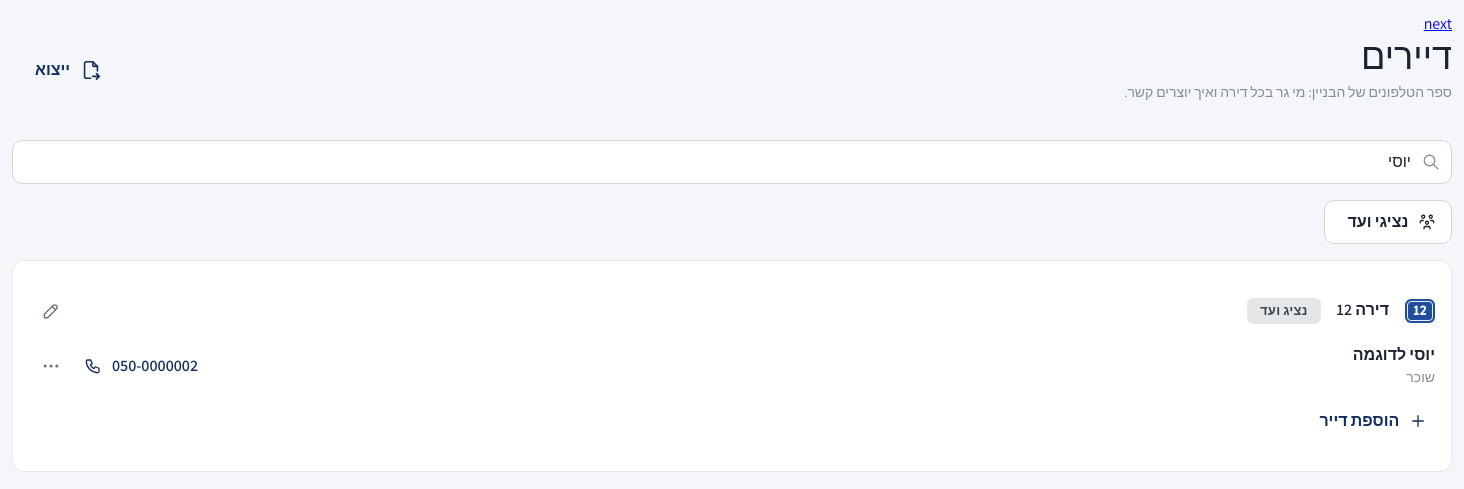
Test case: DirectoryPage › starts filtered by ?q= and follows a new ?q= while open (header search)
Expected: the text "יוסי לדוגמה" is shown, [1353,344,1435,365]
Expected: the text "דנה בדיקה" is not shown
Click the link "next": (1438, 24) [1424,13,1452,34]
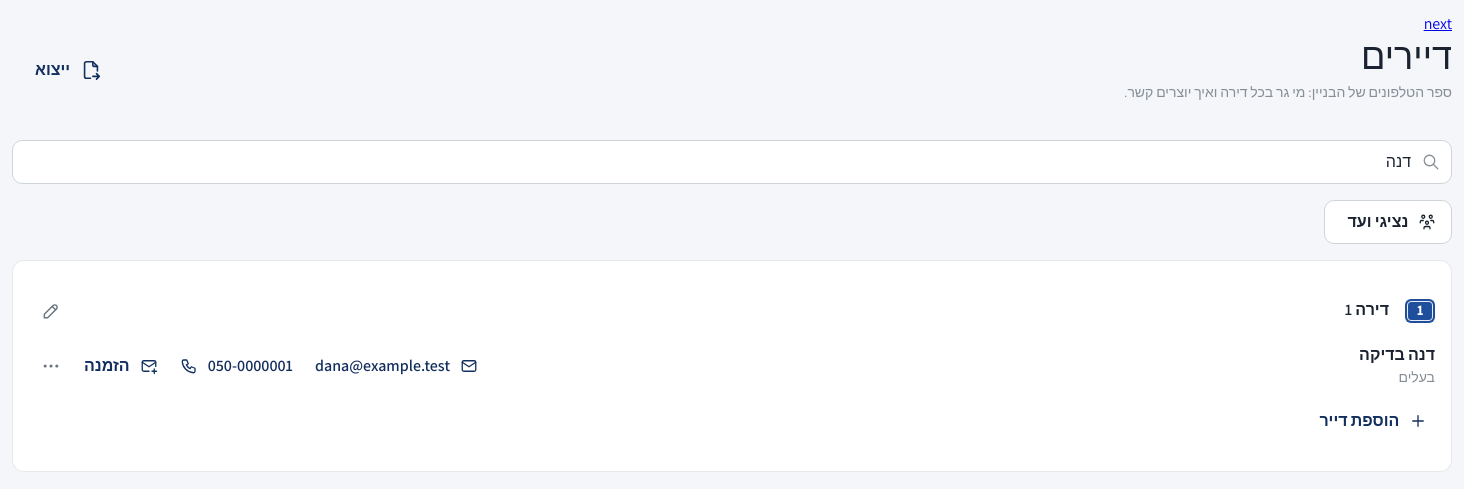
Expected: the text "דנה בדיקה" is shown, [1359,344,1435,365]
Expected: the text "יוסי לדוגמה" is gone
Expected: the search field named "חיפוש" holds "דנה", [12,140,1452,184]
